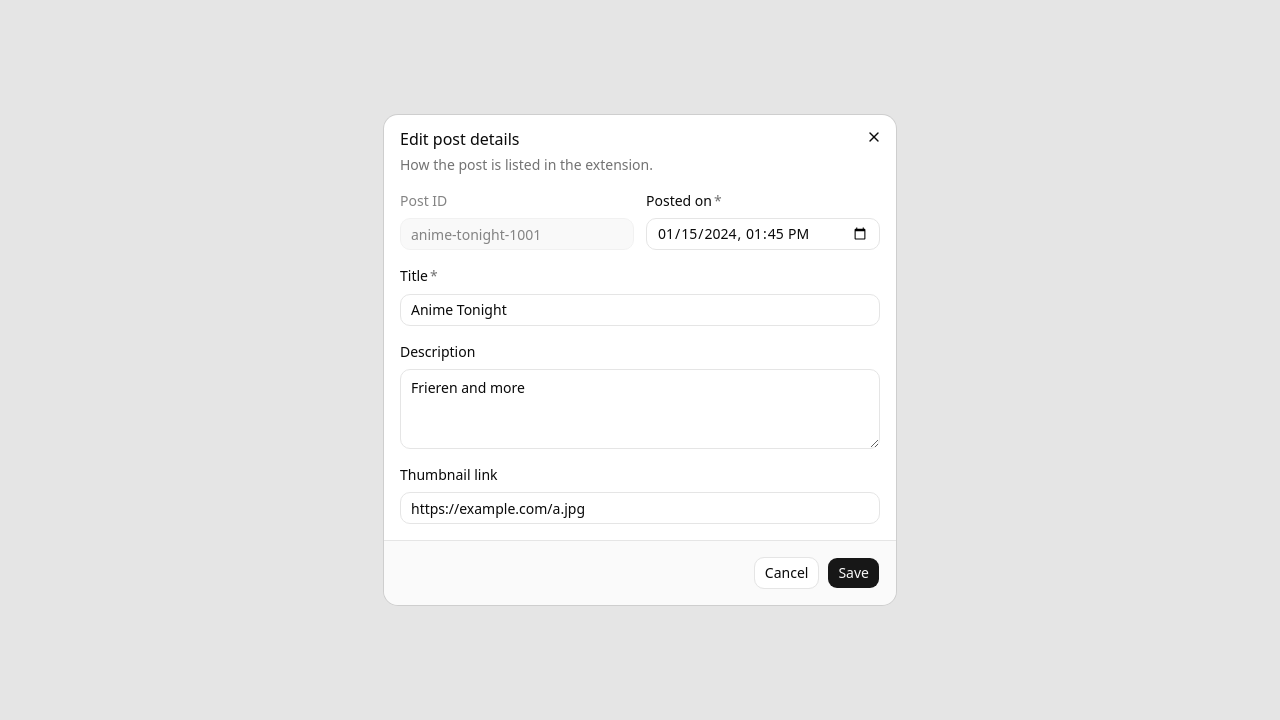
Test: postDetailsDialog › shows why saving failed under the form, and stays open
Click the button "Save". click: (854, 573)
box: x1=827 y1=557 x2=880 y2=589
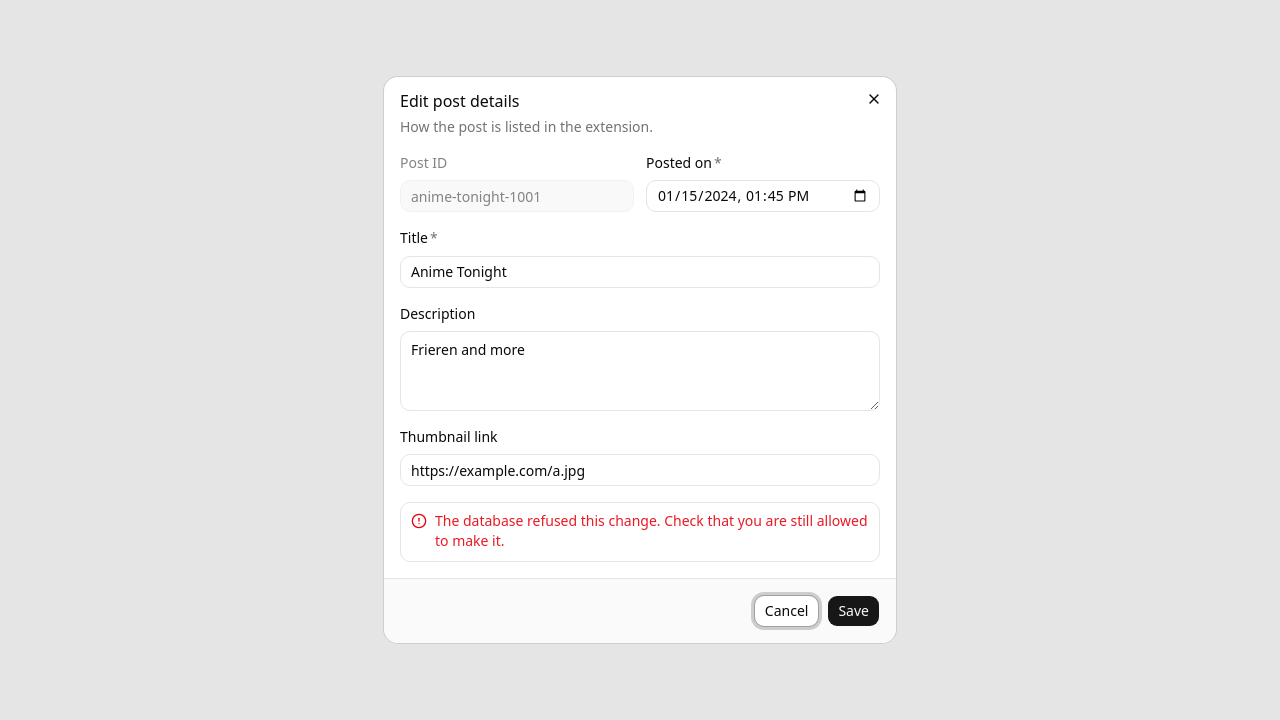
Expected: the button "Save" is enabled, x1=827 y1=595 x2=880 y2=627
Expected: the message shows "The database refused this change", x1=435 y1=511 x2=868 y2=550
